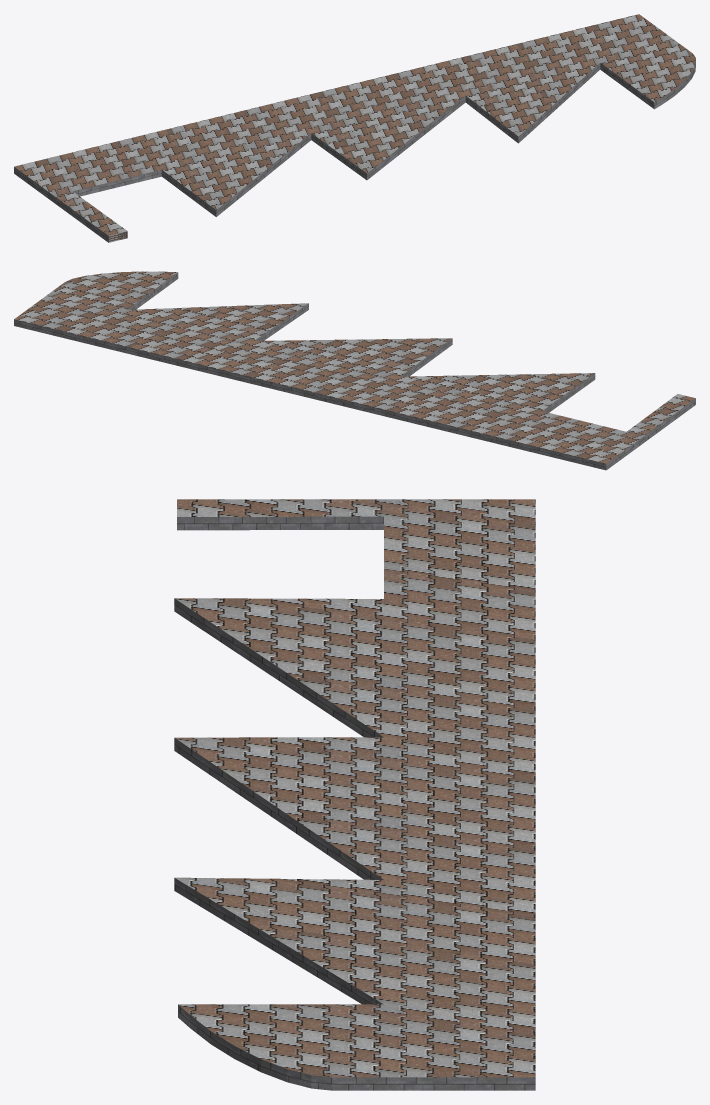
File: parking_lot_1.fbx
The picture shows the model from 3 angles, top to bottom: view 1: azimuth 30°, elevation 25°; view 2: azimuth 150°, elevation 25°; view 3: azimuth 270°, elevation 25°; orthographic projection. The views are drawn at different scales.
Visible parts, largest first — view 1: parking_lot_1; view 2: parking_lot_1; view 3: parking_lot_1.
Part boxes in pixels (x1=…): parking_lot_1: x1=14, y1=14, x2=695, y2=242; parking_lot_1: x1=14, y1=271, x2=695, y2=470; parking_lot_1: x1=174, y1=499, x2=535, y2=1090.
Bounding box in the file's own units: 203 × 2.17 × 53.63.
